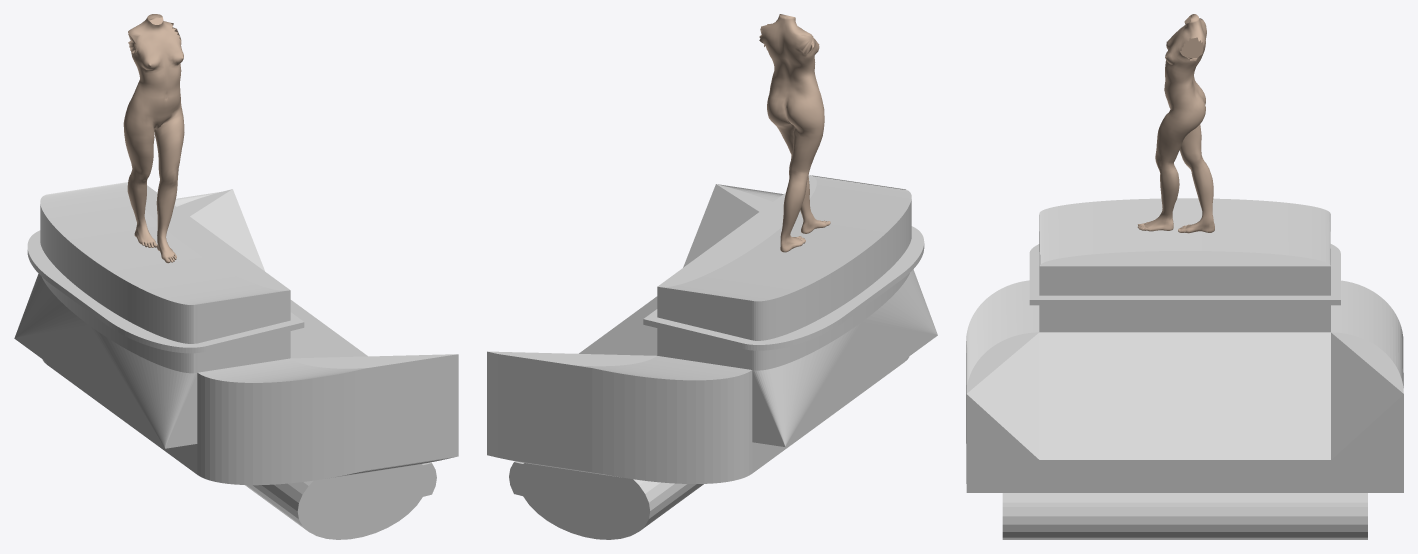
File: Estatua.fbx
The picture shows the model from 3 angles, left to right: view 1: azimuth 30°, elevation 25°; view 2: azimuth 150°, elevation 25°; view 3: azimuth 270°, elevation 25°; orthographic projection. The views are drawn at different scales.
Visible parts, largest first — view 1: Piedra, victoria_alada-base; view 2: Piedra, victoria_alada-base; view 3: Piedra, victoria_alada-base.
Boxes of the visible parts, x1,y1,x2,y2 form: Piedra: [14, 182, 458, 539]; victoria_alada-base: [123, 14, 184, 263]; Piedra: [487, 175, 937, 539]; victoria_alada-base: [759, 14, 830, 252]; Piedra: [966, 198, 1403, 539]; victoria_alada-base: [1137, 14, 1214, 233].
Bounding box in the file's own units: 410 × 698 × 601.
